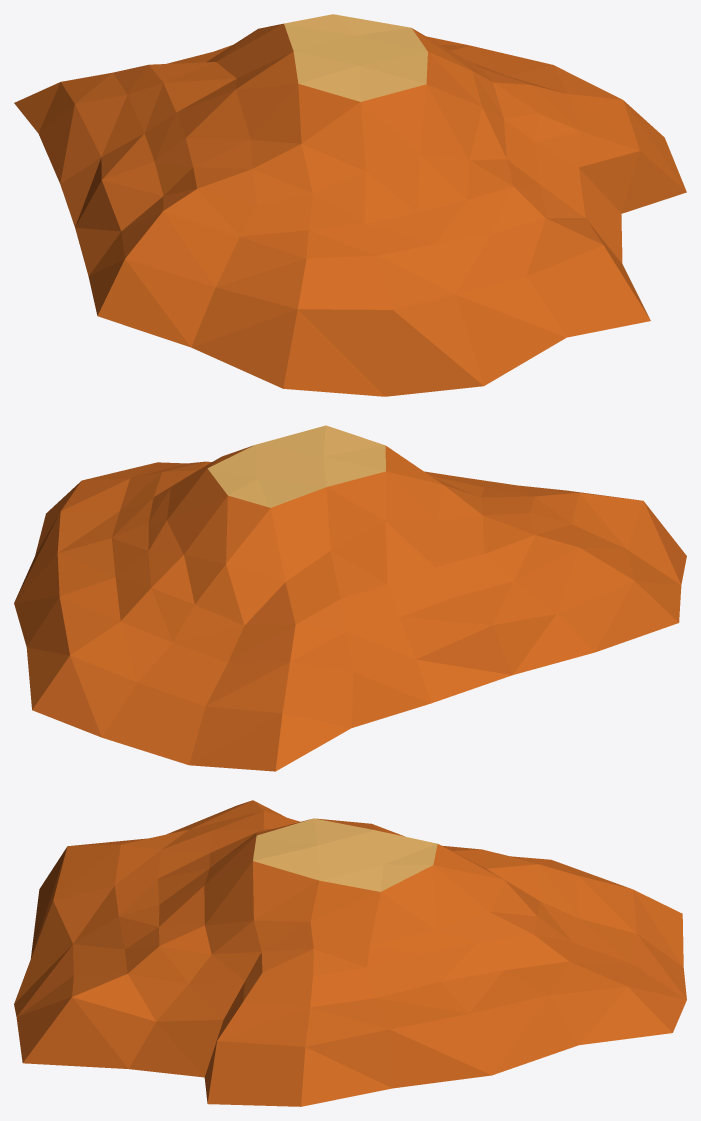
File: desert_relief_3.fbx
3 renders of one model, top to bottom at view 1: azimuth 30°, elevation 25°; view 2: azimuth 150°, elevation 25°; view 3: azimuth 270°, elevation 25°, orthographic. The views are drawn at different scales.
Visible parts, largest first — view 1: Icosphere.299; view 2: Icosphere.299; view 3: Icosphere.299.
Boxes of the visible parts, x1,y1,x2,y2 form: Icosphere.299: (14,14,686,396); Icosphere.299: (14,425,686,771); Icosphere.299: (14,800,686,1106).
Size of the model in its own units: 1167 by 348 by 1202.
